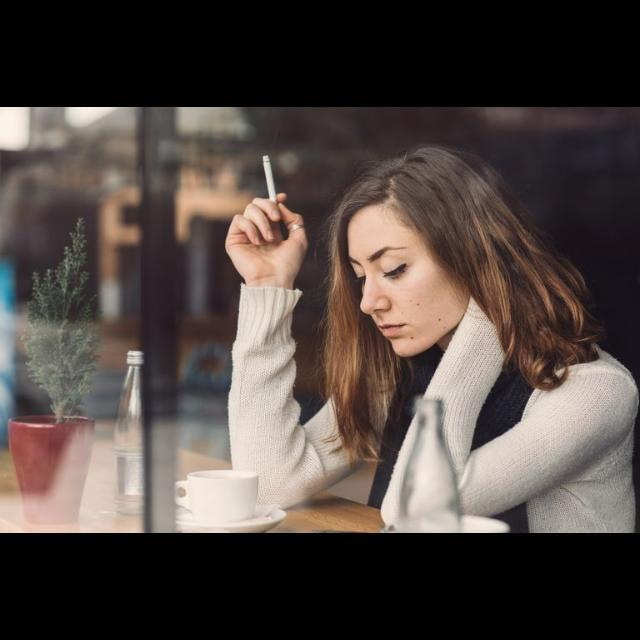rokok: (258, 154, 282, 203)
